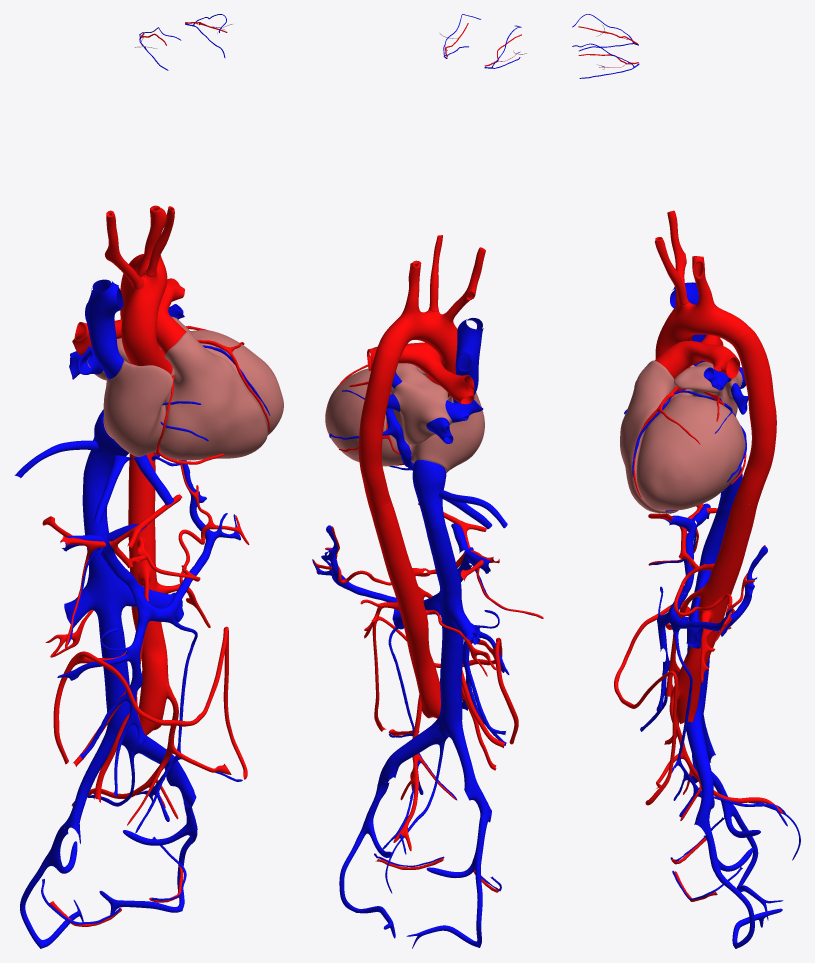
File: cardiovascular-meshopt.glb
The picture shows the model from 3 angles, left to right: view 1: azimuth 30°, elevation 25°; view 2: azimuth 150°, elevation 25°; view 3: azimuth 270°, elevation 25°; orthographic projection. The views are drawn at different scales.
Parts seen in each view (by area): view 1: VH_F_right_ventricle, VH_F_inferior_vena_cava_b, VH_F_descending_aorta_b, VH_F_right_cardiac_atrium, VH_F_left_ventricle, VH_F_superior_vena_cava, VH_F_marginal_artery_of_Drummond, VH_F_ascending_aorta, VH_F_splenic_vein, VH_F_aortic_arch, VH_F_left_common_iliac_vein, VH_F_right_common_iliac_vein (+15 smaller); view 2: VH_F_descending_aorta_b, VH_F_inferior_vena_cava_b, VH_F_descending_aorta_a, VH_F_left_cardiac_atrium, VH_F_left_ventricle, VH_F_right_cardiac_atrium, VH_F_aortic_arch, VH_F_inferior_vena_cava_a, VH_F_left_common_iliac_vein, VH_F_superior_vena_cava, VH_F_marginal_artery_of_Drummond, VH_F_pulmonary_artery_R (+10 smaller); view 3: VH_F_left_ventricle, VH_F_descending_aorta_b, VH_F_descending_aorta_a, VH_F_right_ventricle, VH_F_aortic_arch, VH_F_inferior_vena_cava_b, VH_F_left_common_iliac_vein, VH_F_marginal_artery_of_Drummond, VH_F_splenic_vein, VH_F_left_cardiac_atrium, VH_F_pulmonary_artery_L, VH_F_splenic_artery (+9 smaller).
Part boxes in pixels (box(x1,y1,x2,y2)): VH_F_right_ventricle: box(154, 331, 267, 460); VH_F_inferior_vena_cava_b: box(82, 459, 135, 745); VH_F_descending_aorta_b: box(128, 452, 169, 735); VH_F_right_cardiac_atrium: box(103, 359, 173, 456); VH_F_left_ventricle: box(191, 330, 283, 435); VH_F_superior_vena_cava: box(85, 279, 123, 379); VH_F_marginal_artery_of_Drummond: box(53, 626, 247, 779); VH_F_ascending_aorta: box(121, 309, 172, 374); VH_F_splenic_vein: box(139, 460, 240, 623); VH_F_aortic_arch: box(124, 254, 167, 312); VH_F_left_common_iliac_vein: box(124, 726, 196, 808); VH_F_right_common_iliac_vein: box(64, 729, 115, 836); VH_F_descending_aorta_b: box(369, 499, 440, 718); VH_F_inferior_vena_cava_b: box(422, 512, 463, 738); VH_F_descending_aorta_a: box(358, 344, 399, 510); VH_F_left_cardiac_atrium: box(390, 363, 452, 445); VH_F_left_ventricle: box(325, 368, 407, 466); VH_F_right_cardiac_atrium: box(408, 392, 484, 472); VH_F_aortic_arch: box(379, 309, 457, 357); VH_F_inferior_vena_cava_a: box(412, 459, 446, 513); VH_F_left_common_iliac_vein: box(374, 718, 443, 798); VH_F_superior_vena_cava: box(453, 318, 483, 402); VH_F_marginal_artery_of_Drummond: box(372, 616, 518, 744); VH_F_pulmonary_artery_R: box(423, 354, 474, 404); VH_F_left_ventricle: box(636, 395, 745, 510); VH_F_descending_aorta_b: box(676, 493, 758, 723); VH_F_descending_aorta_a: box(731, 329, 776, 504); VH_F_right_ventricle: box(620, 360, 678, 513); VH_F_aortic_arch: box(665, 301, 751, 343); VH_F_inferior_vena_cava_b: box(687, 475, 742, 719); VH_F_left_common_iliac_vein: box(686, 712, 714, 835); VH_F_marginal_artery_of_Drummond: box(614, 603, 690, 805); VH_F_splenic_vein: box(668, 546, 767, 636); VH_F_left_cardiac_atrium: box(674, 361, 742, 415); VH_F_pulmonary_artery_L: box(684, 341, 740, 378); VH_F_splenic_artery: box(673, 545, 765, 641).
Size of the model in its own units: 0.1971 by 0.7992 by 0.1849.
